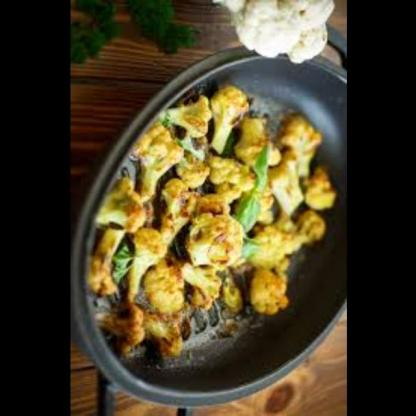cayliflower: (104, 93, 338, 338), (212, 0, 326, 77)
